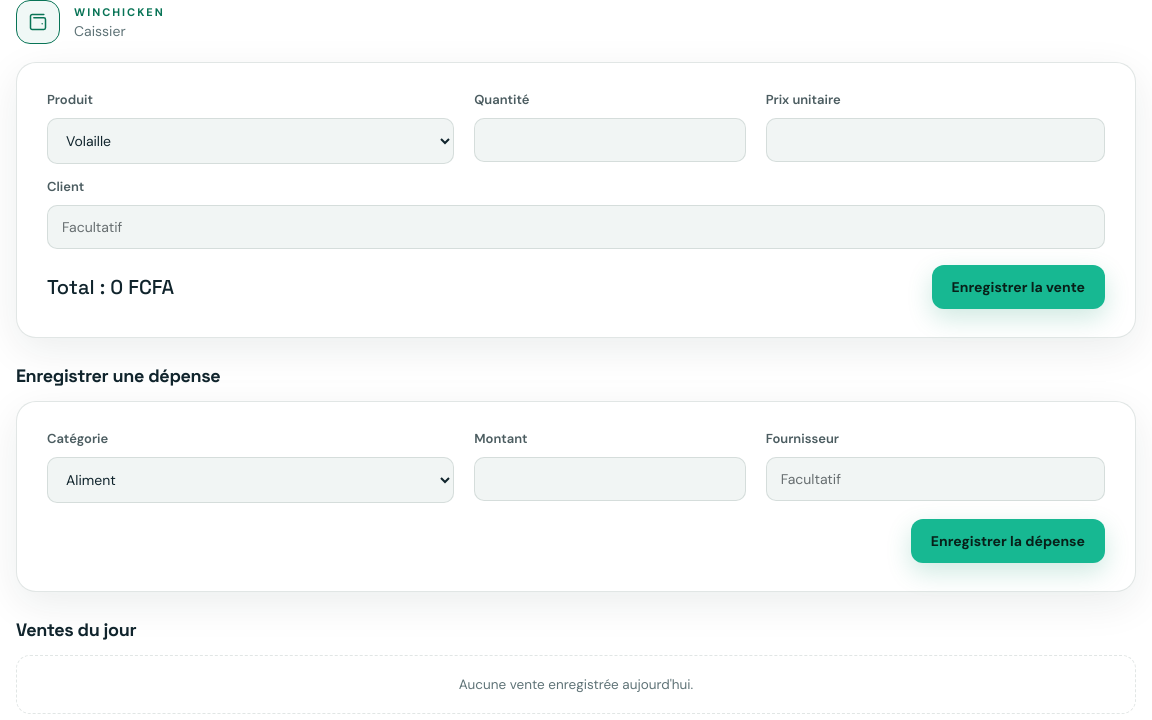
Test case: CashierPage — recording a sale › a rejected sale shows the server's message and keeps what was typed
Type "12" into the number field labelled "Quantité".
click(610, 140); type("12")  # box [474,118,746,162]
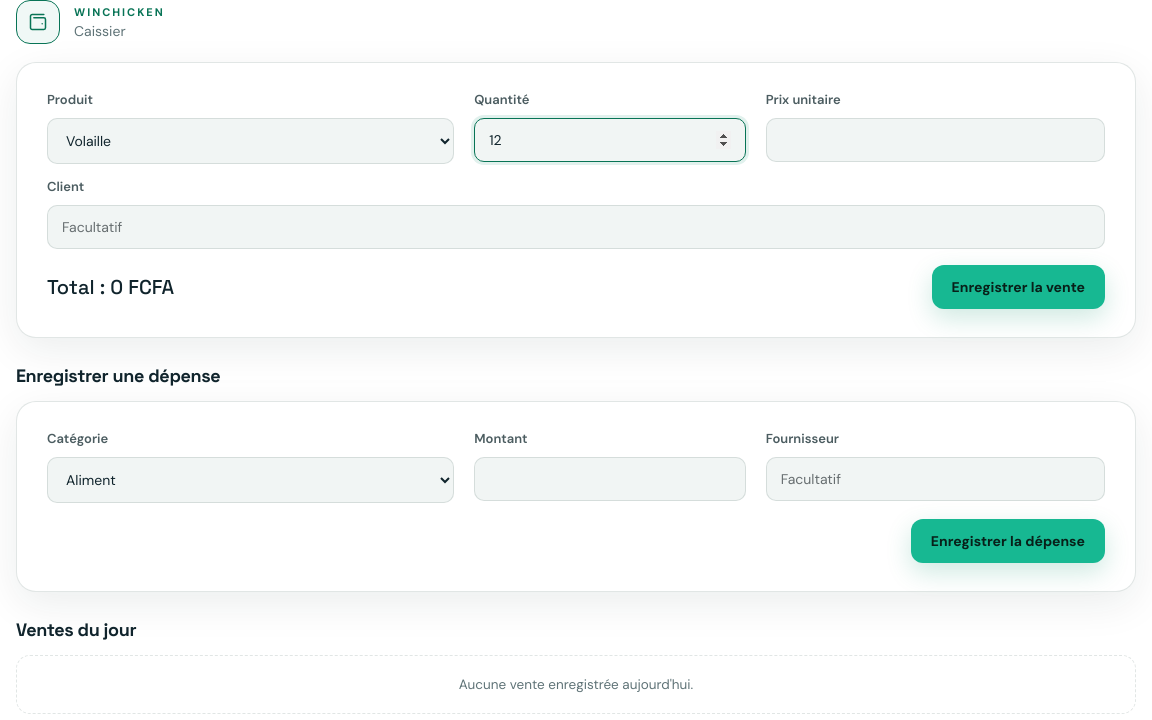
Type "2500" into the number field labelled "Prix unitaire".
click(935, 140); type("2500")  # box [766,118,1105,162]
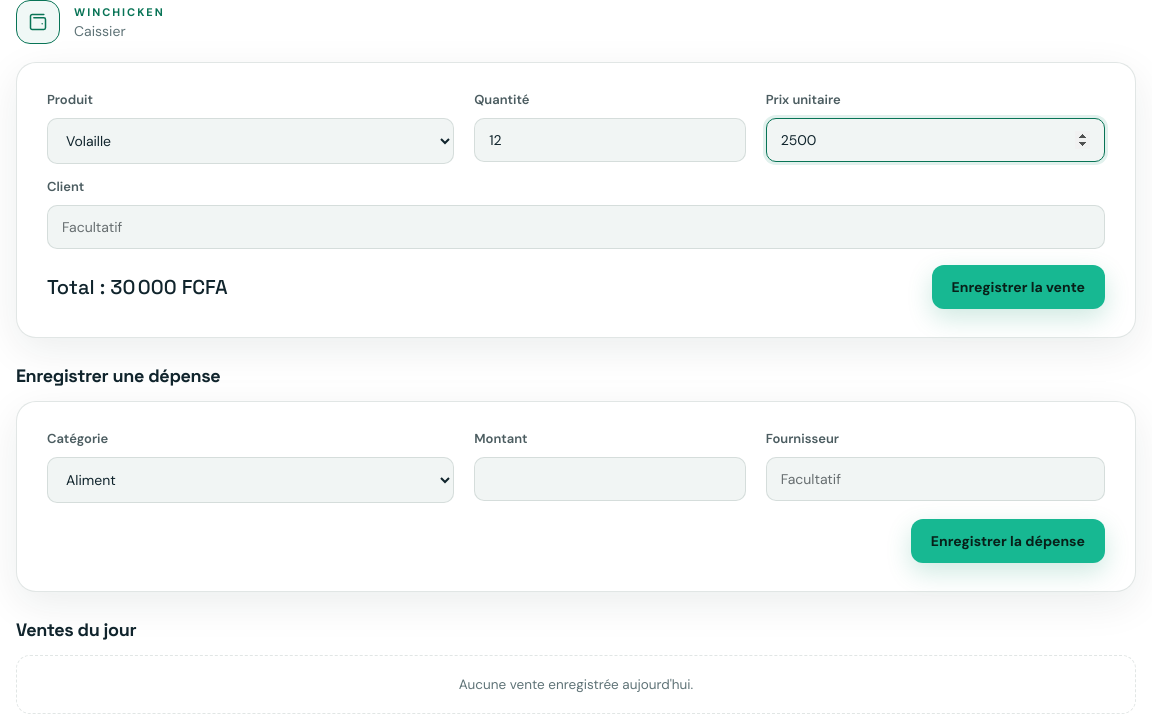
Click the button "Enregistrer la vente".
click(1018, 287)  # box [932,265,1105,309]
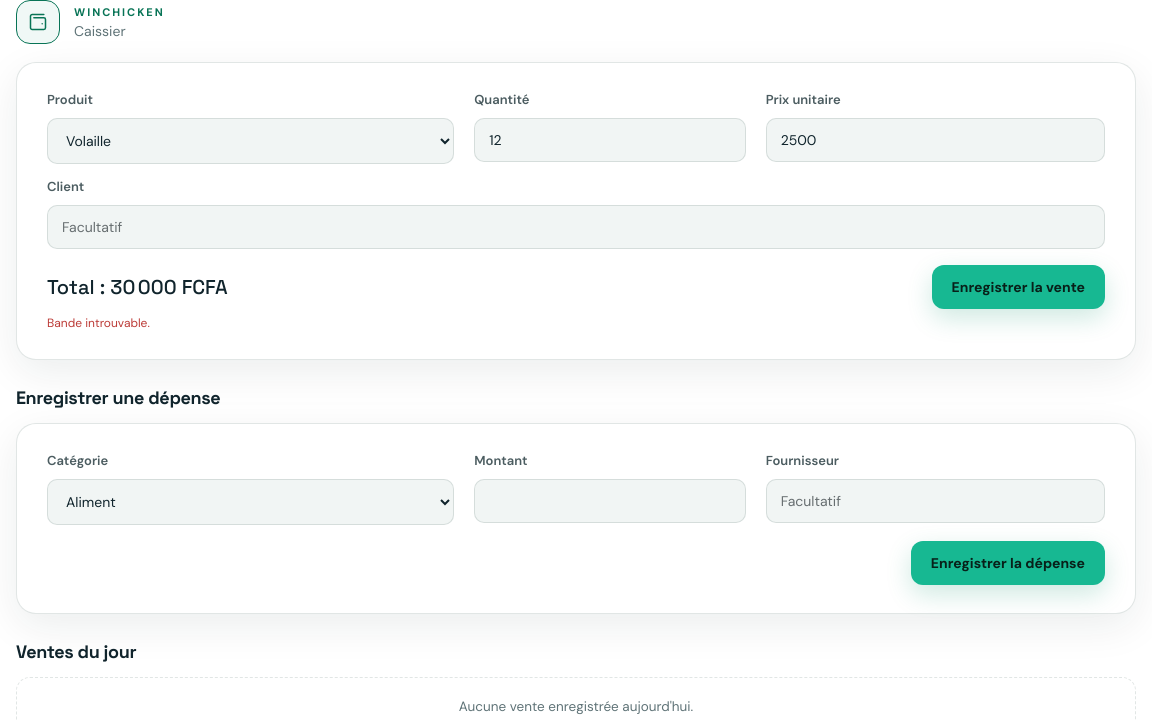
Expected: the message reads "Bande introuvable.", [47,315,150,331]
